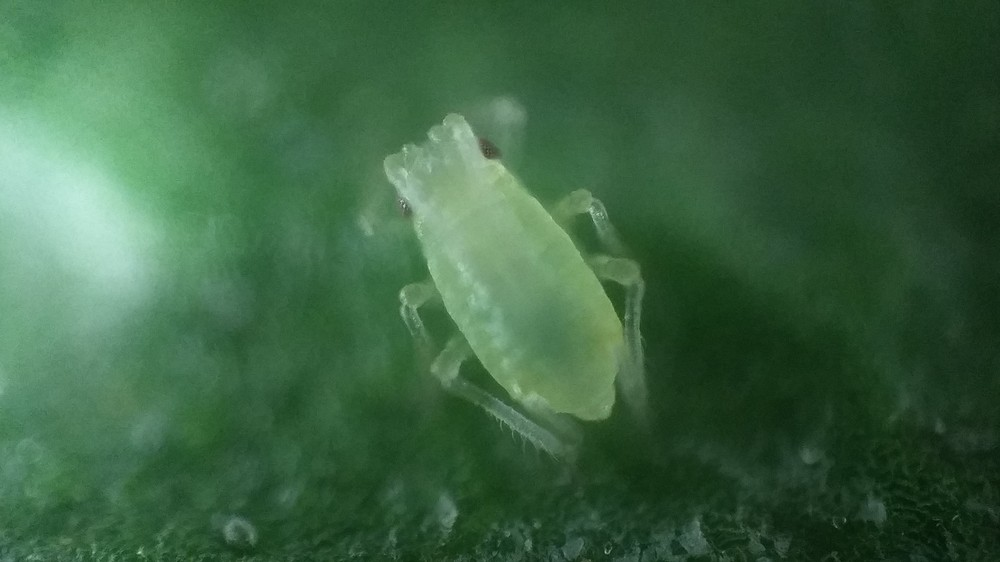Pulgon: (342, 95, 704, 491)
